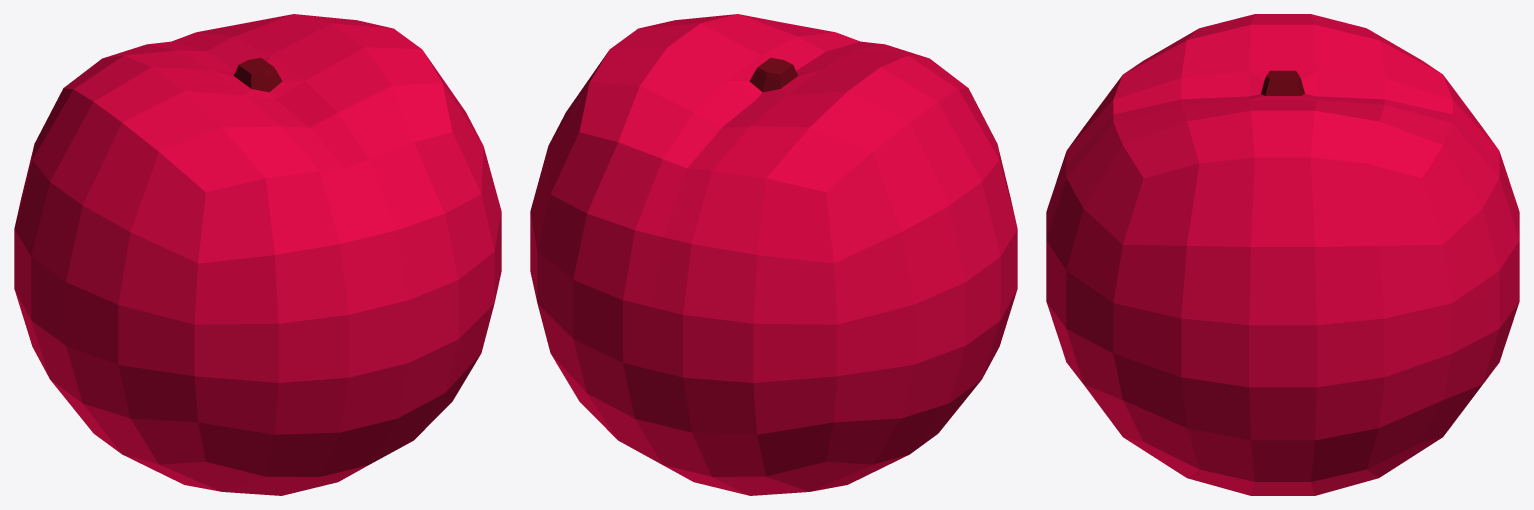
Rendered from Peach_01.fbx.
3 views of the same model, side by side, from view 1: azimuth 30°, elevation 25°; view 2: azimuth 150°, elevation 25°; view 3: azimuth 270°, elevation 25° (orthographic). The views are drawn at different scales.
Parts seen in each view (by area): view 1: Peach_01; view 2: Peach_01; view 3: Peach_01.
Part boxes in pixels (bbox=[...]): Peach_01: bbox=[14, 14, 501, 495]; Peach_01: bbox=[530, 14, 1017, 495]; Peach_01: bbox=[1046, 14, 1519, 495].
Bounding box in the file's own units: 5.13 × 4.83 × 5.13.
